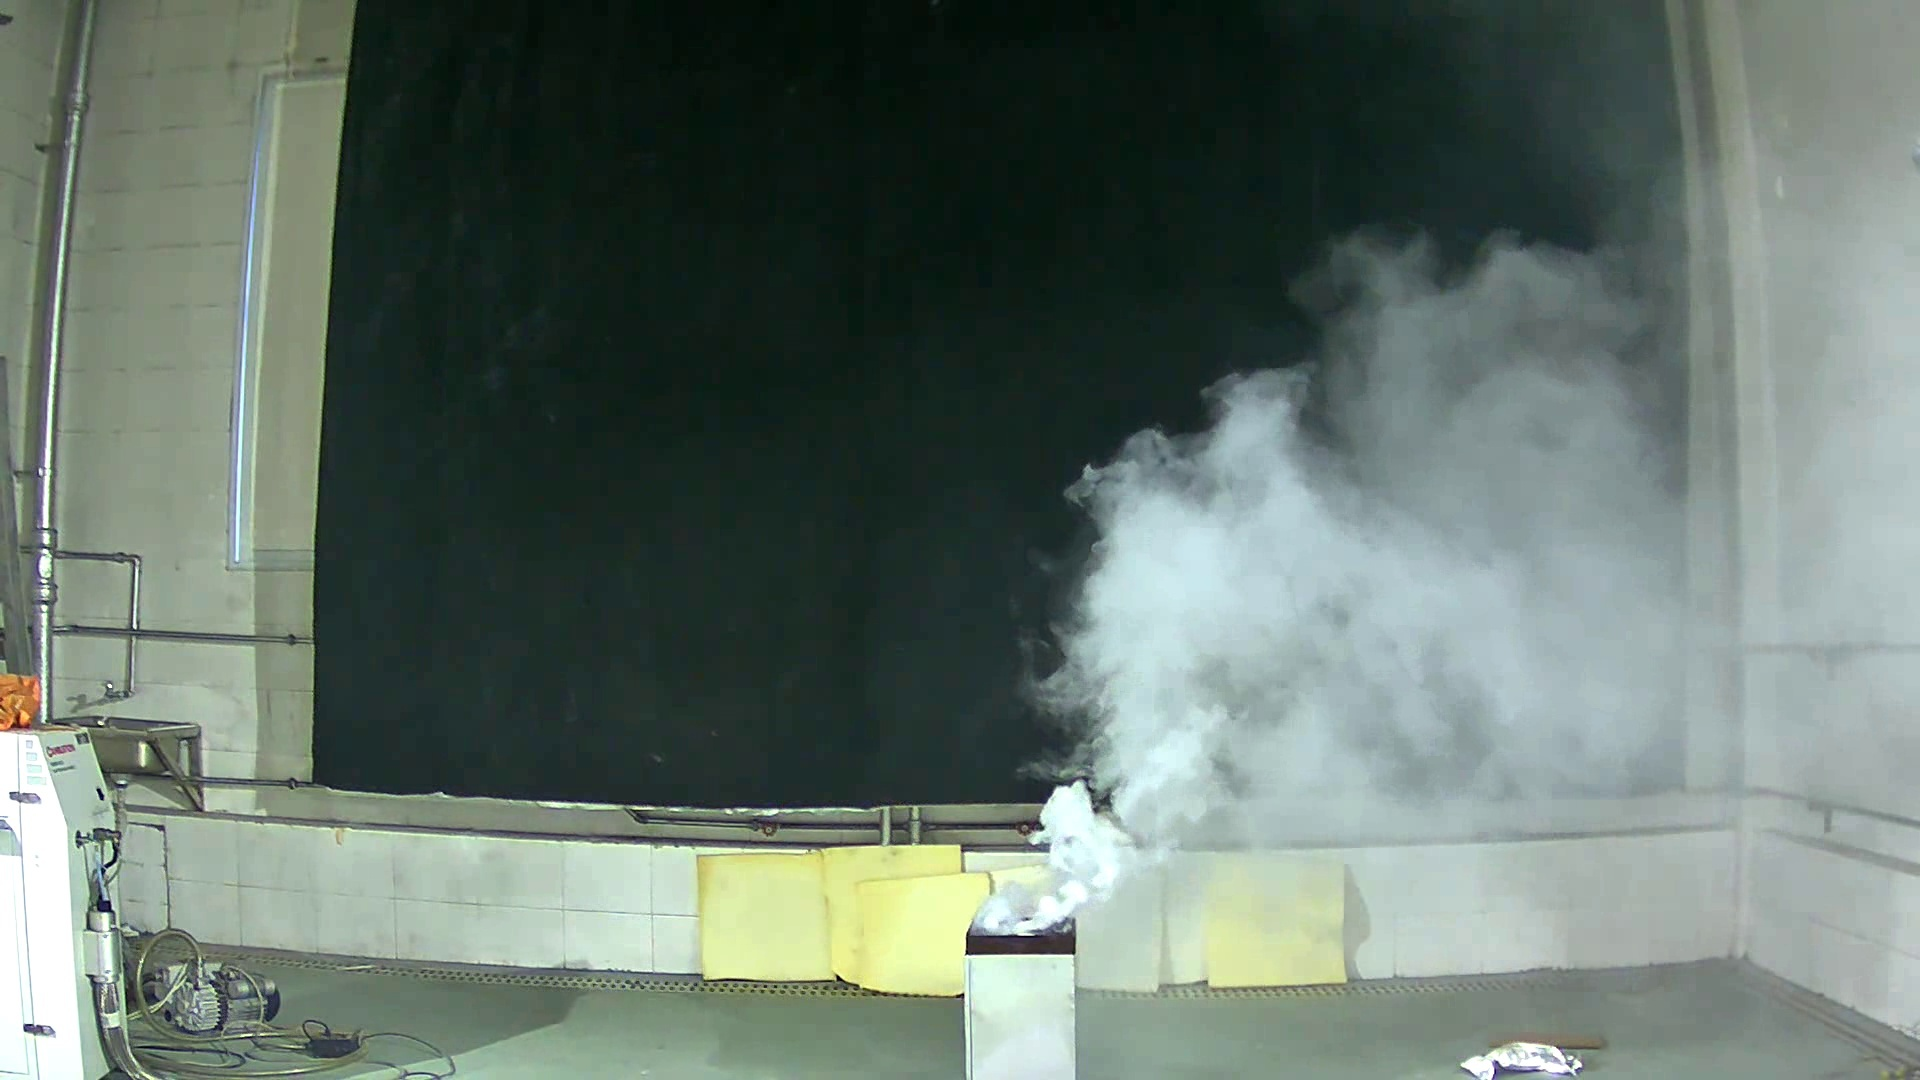smoke: (953, 161, 1687, 930)
